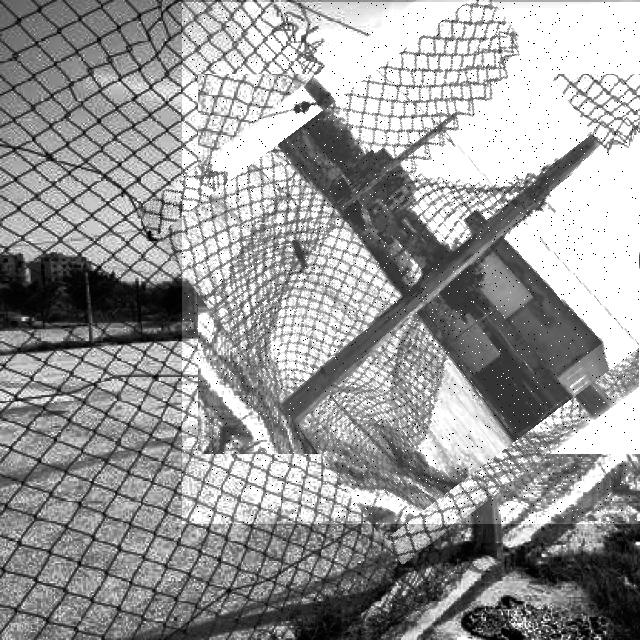anomaly-fence: (182, 2, 640, 524)
